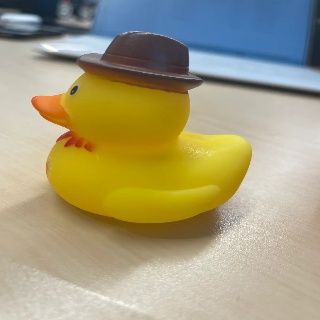duck_specialty: (31, 30, 252, 222)
